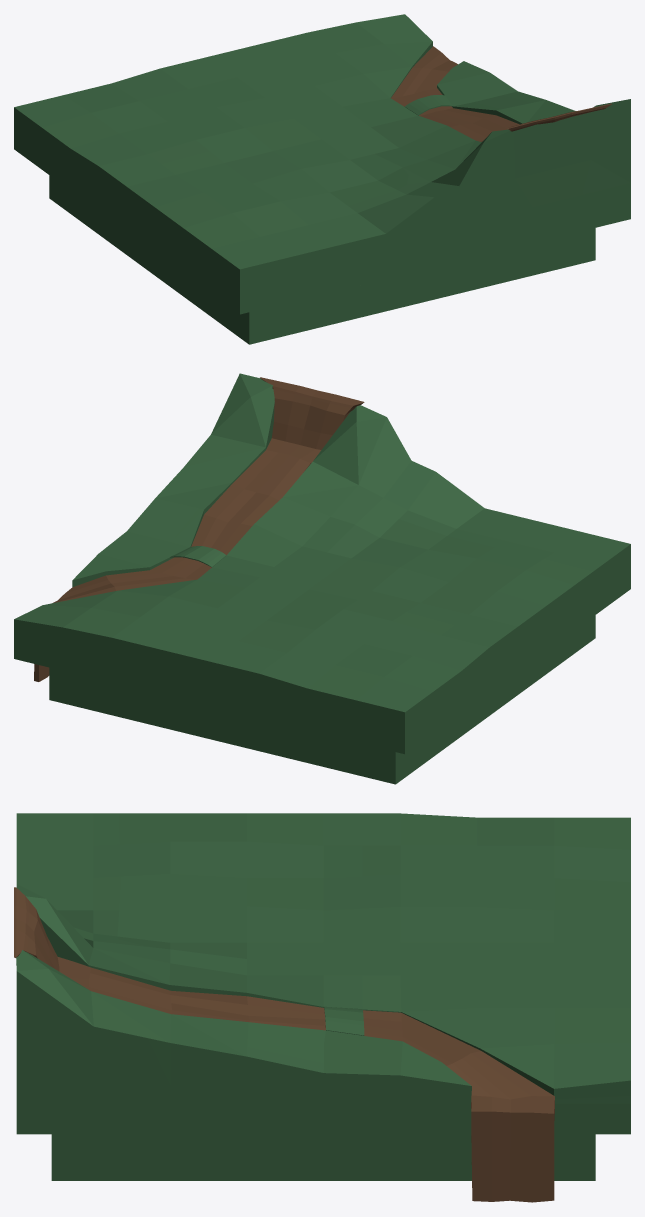
File: Hintergrund Abgabe.fbx
The picture shows the model from 3 angles, top to bottom: view 1: azimuth 30°, elevation 25°; view 2: azimuth 150°, elevation 25°; view 3: azimuth 270°, elevation 25°; orthographic projection. The views are drawn at different scales.
Visible parts, largest first — view 1: Grasboden; view 2: Grasboden; view 3: Grasboden.
Part boxes in pixels (bbox=[...]): Grasboden: bbox=[14, 14, 630, 344]; Grasboden: bbox=[14, 373, 630, 784]; Grasboden: bbox=[14, 813, 630, 1202].
Bounding box in the file's own units: 2296 × 920 × 2257.
